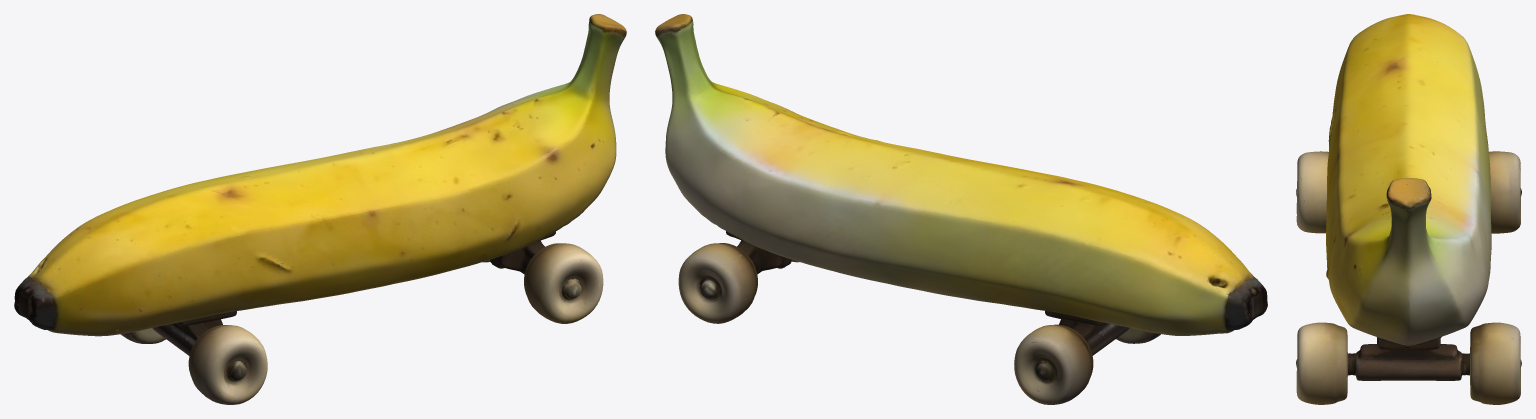
The model's file is bananaboard.glb.
The picture shows the model from 3 angles, left to right: view 1: azimuth 30°, elevation 25°; view 2: azimuth 150°, elevation 25°; view 3: azimuth 270°, elevation 25°; orthographic projection. The views are drawn at different scales.
Visible parts, largest first — view 1: banana, wheel_L_B, wheel_L_F, axis_F, axis_B; view 2: banana, wheel_R_F, wheel_R_B, axis_F, axis_B; view 3: banana, wheel_L_B, wheel_R_B, axis_B, wheel_R_F, wheel_L_F, part_B.
Part boxes in pixels (left/top/right/bottom): banana: left=14, top=14, right=626, bottom=336; wheel_L_B: left=524, top=243, right=603, bottom=323; wheel_L_F: left=188, top=325, right=267, bottom=404; axis_F: left=152, top=319, right=222, bottom=355; axis_B: left=490, top=240, right=544, bottom=274; banana: left=655, top=14, right=1267, bottom=335; wheel_R_F: left=1014, top=324, right=1093, bottom=404; wheel_R_B: left=678, top=243, right=757, bottom=323; axis_F: left=1059, top=319, right=1129, bottom=355; axis_B: left=737, top=240, right=791, bottom=274; banana: left=1326, top=14, right=1491, bottom=345; wheel_L_B: left=1296, top=322, right=1348, bottom=404; wheel_R_B: left=1469, top=322, right=1521, bottom=404; axis_B: left=1348, top=344, right=1469, bottom=380; wheel_R_F: left=1489, top=151, right=1521, bottom=233; wheel_L_F: left=1296, top=151, right=1328, bottom=233; part_B: left=1377, top=337, right=1440, bottom=350.
Bounding box in the file's own units: 0.9795 × 0.388 × 0.3045.
Materials: 1 (1 with a texture image).
